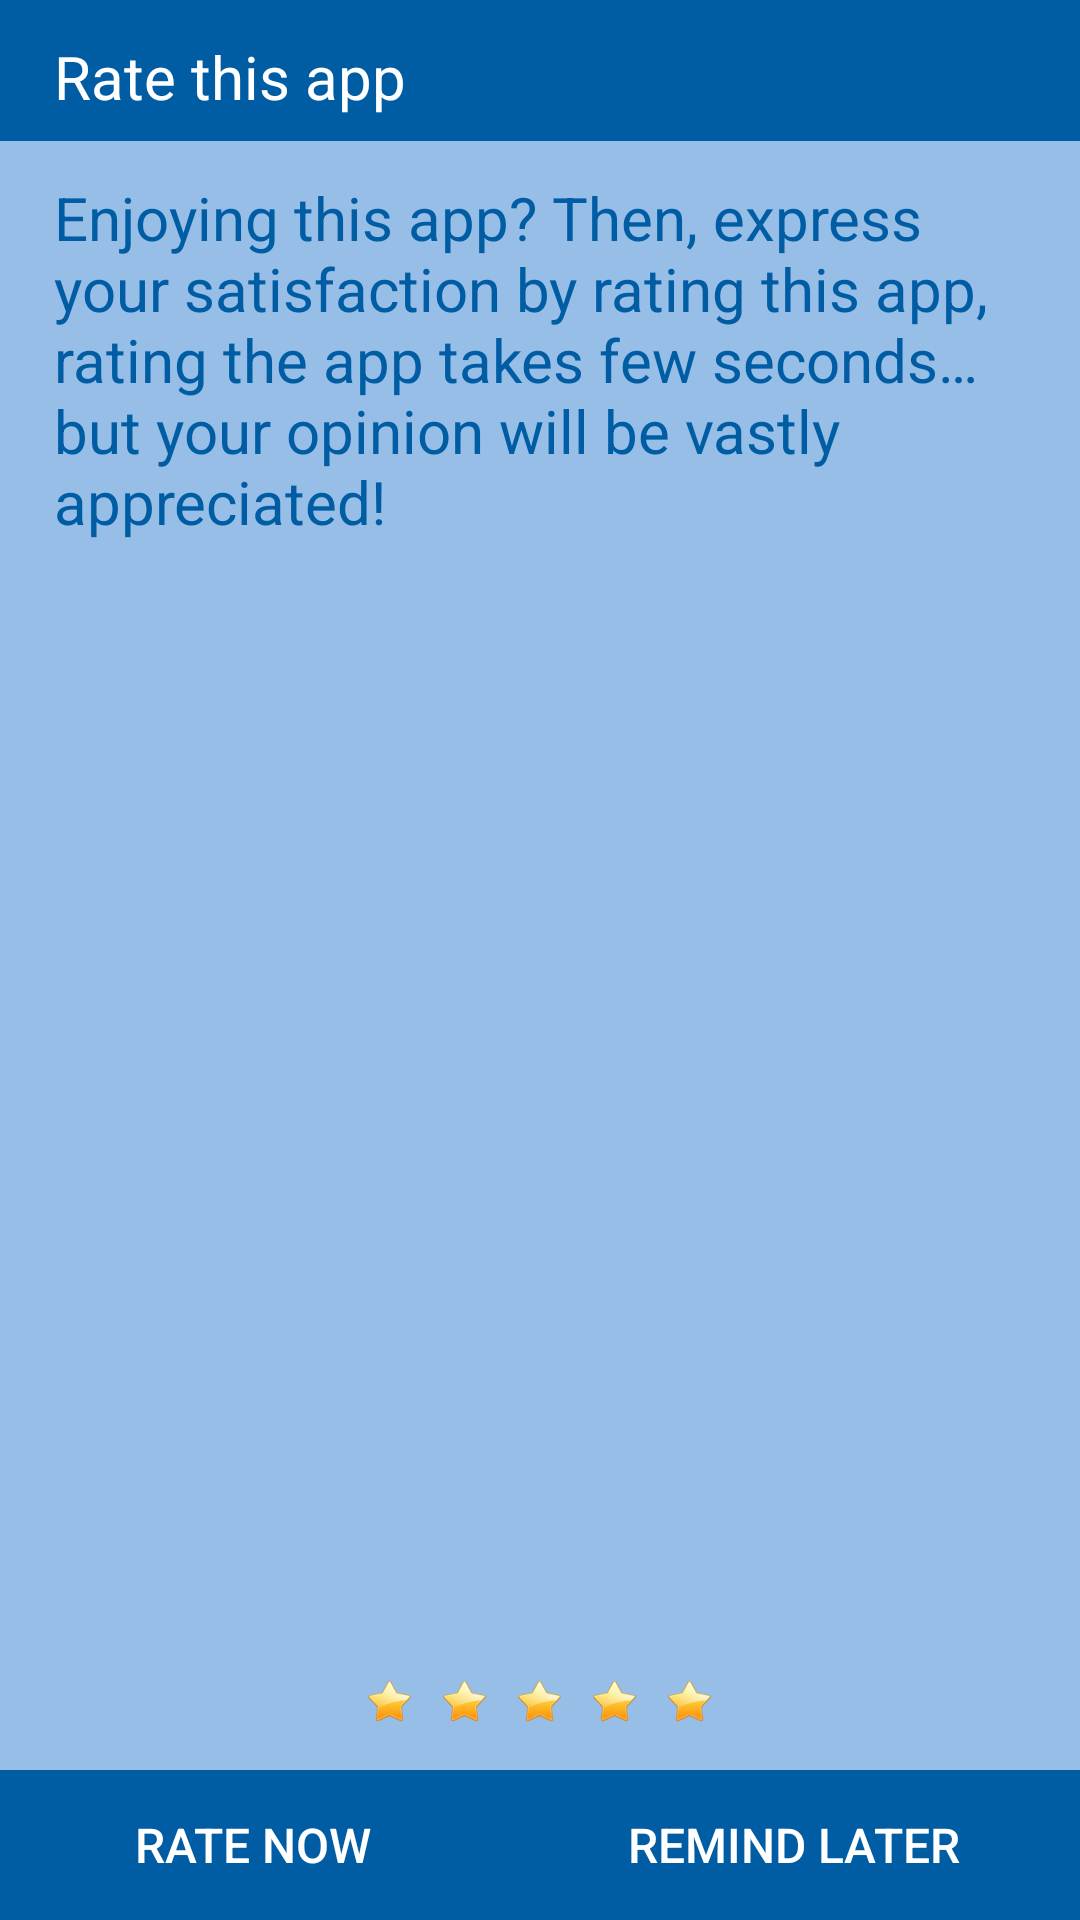

Icon bounding boxes for this 1080px x 1920px phone screenshot, format [left=x1, top=y1, right=x2, bottom=y2]:
rate reviw: [left=368, top=1681, right=411, bottom=1722], [left=443, top=1681, right=486, bottom=1722], [left=518, top=1681, right=561, bottom=1722], [left=593, top=1681, right=636, bottom=1722], [left=668, top=1681, right=711, bottom=1722]
